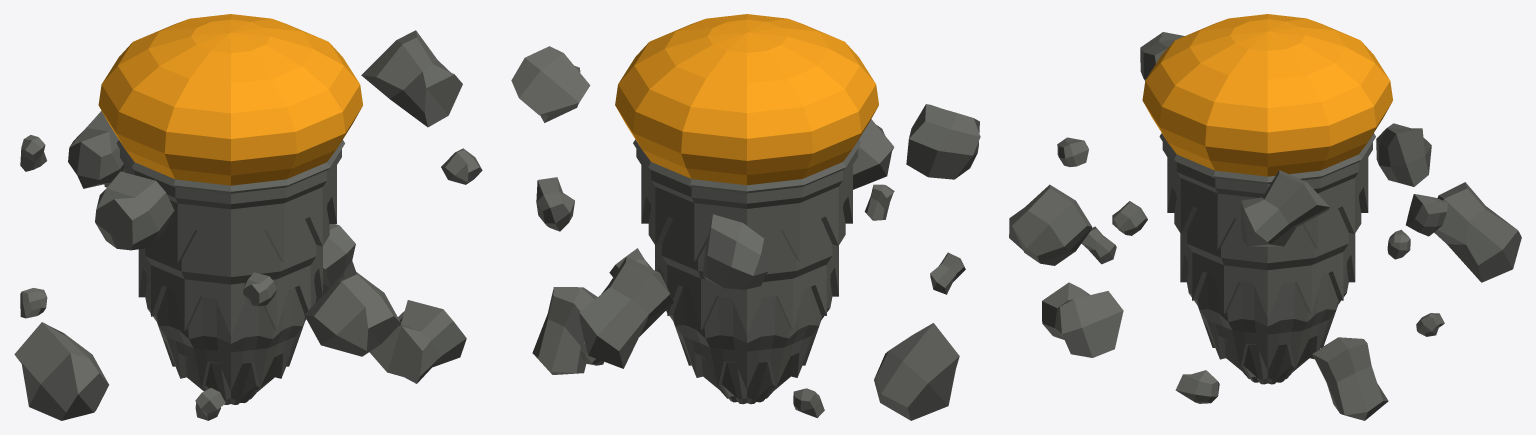
The model's file is LabSTONE.fbx.
3 renders of one model, left to right at view 1: azimuth 30°, elevation 25°; view 2: azimuth 150°, elevation 25°; view 3: azimuth 270°, elevation 25°, orthographic. The views are drawn at different scales.
Visible parts, largest first — view 1: Circle, flying_stone.004, flying_stone.003, flying_stone.002, flying_stone.011, flying_stone.010, flying_stone.012, flying_stone.009, flying_stone.005, flying_stone.013, flying_stone.015, flying_stone.007 (+1 smaller); view 2: Circle, flying_stone.001, flying_stone.004, flying_stone.010, flying_stone.003, flying_stone.012, flying_stone.009, flying_stone.002, flying_stone.006, flying_stone.007, flying_stone.015, flying_stone.008; view 3: Circle, flying_stone.001, flying_stone.011, flying_stone.002, flying_stone.003, flying_stone.009, flying_stone.012, flying_stone.006, flying_stone.014, flying_stone.010, flying_stone.005, flying_stone.013 (+3 smaller).
Part boxes in pixels (<box>): Circle: <box>98,14,362,404</box>; flying_stone.004: <box>14,322,108,420</box>; flying_stone.003: <box>361,30,462,127</box>; flying_stone.002: <box>304,272,400,356</box>; flying_stone.011: <box>369,300,466,383</box>; flying_stone.010: <box>95,171,174,250</box>; flying_stone.012: <box>68,111,124,188</box>; flying_stone.009: <box>315,224,355,302</box>; flying_stone.005: <box>441,148,482,184</box>; flying_stone.013: <box>243,272,277,306</box>; flying_stone.015: <box>20,135,46,171</box>; flying_stone.007: <box>195,388,225,420</box>; Circle: <box>615,14,878,404</box>; flying_stone.001: <box>579,256,673,368</box>; flying_stone.004: <box>874,323,959,420</box>; flying_stone.010: <box>906,104,980,179</box>; flying_stone.003: <box>511,46,590,122</box>; flying_stone.012: <box>703,214,767,289</box>; flying_stone.009: <box>532,287,597,374</box>; flying_stone.002: <box>853,119,894,189</box>; flying_stone.006: <box>536,177,574,231</box>; flying_stone.007: <box>930,252,965,294</box>; flying_stone.015: <box>864,184,894,220</box>; flying_stone.008: <box>793,388,824,417</box>; Circle: <box>1142,14,1392,384</box>; flying_stone.001: <box>1434,182,1521,282</box>; flying_stone.011: <box>1042,282,1123,357</box>; flying_stone.002: <box>1009,184,1092,265</box>; flying_stone.003: <box>1241,170,1329,246</box>; flying_stone.009: <box>1312,337,1388,420</box>; flying_stone.012: <box>1376,123,1431,186</box>; flying_stone.006: <box>1406,194,1447,236</box>; flying_stone.014: <box>1175,370,1219,403</box>; flying_stone.010: <box>1140,32,1184,80</box>; flying_stone.005: <box>1112,201,1147,235</box>; flying_stone.013: <box>1057,137,1088,166</box>.
Bounding box in the file's own units: 1486 × 1196 × 1582.
